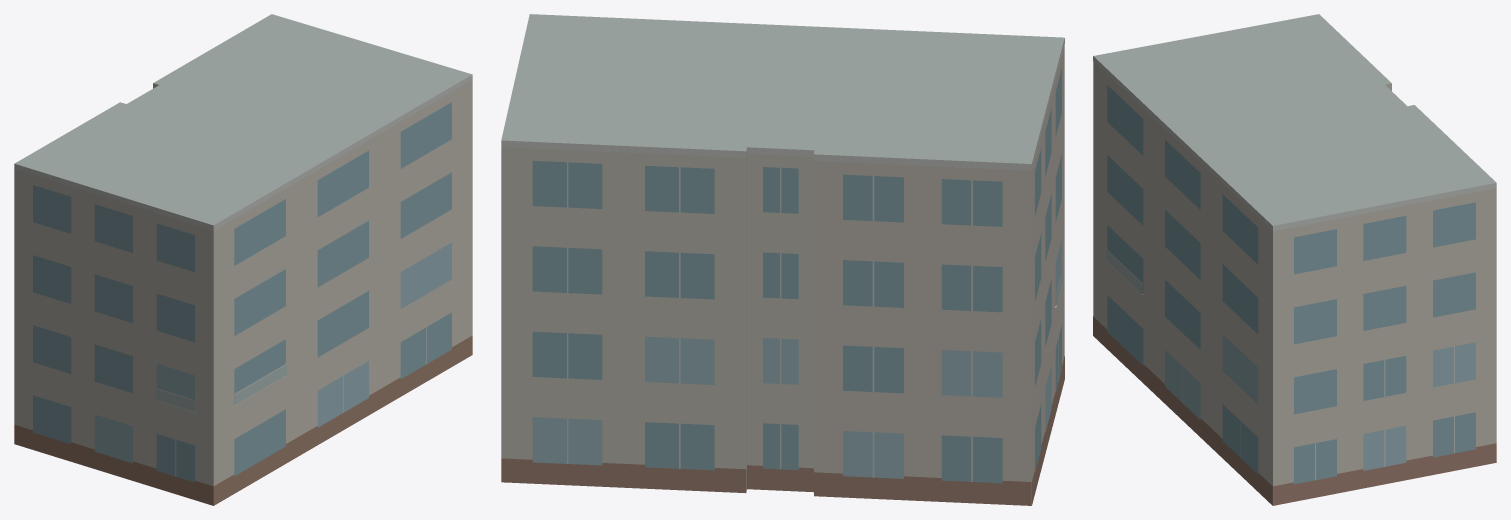
The model's file is survey-upis-32741642.glb.
3 views of the same model, side by side, from view 1: azimuth 30°, elevation 25°; view 2: azimuth 150°, elevation 25°; view 3: azimuth 270°, elevation 25° (orthographic). The views are drawn at different scales.
Visible parts, largest first — view 1: survey-upis-32741642.tmp; view 2: survey-upis-32741642.tmp; view 3: survey-upis-32741642.tmp.
Boxes of the visible parts, x1,y1,x2,y2 form: survey-upis-32741642.tmp: [14, 14, 472, 505]; survey-upis-32741642.tmp: [501, 14, 1064, 505]; survey-upis-32741642.tmp: [1093, 14, 1496, 505].
Size of the model in its own units: 20.79 by 12.8 by 16.73.
